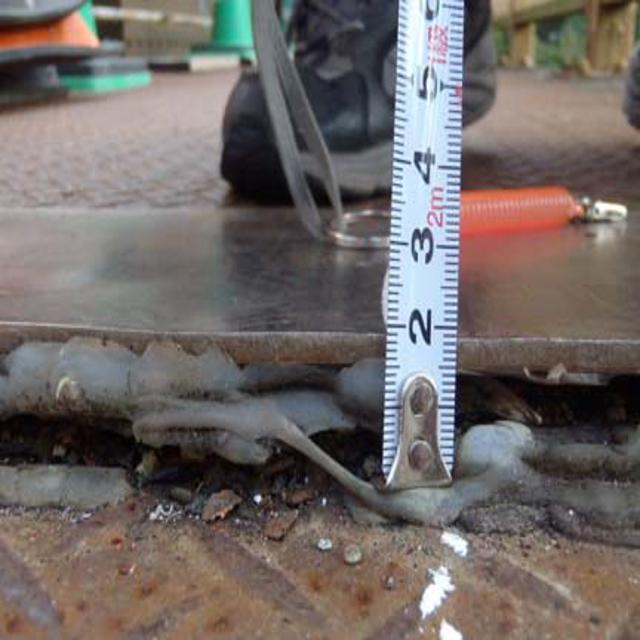corrosion: (24, 307, 640, 547)
